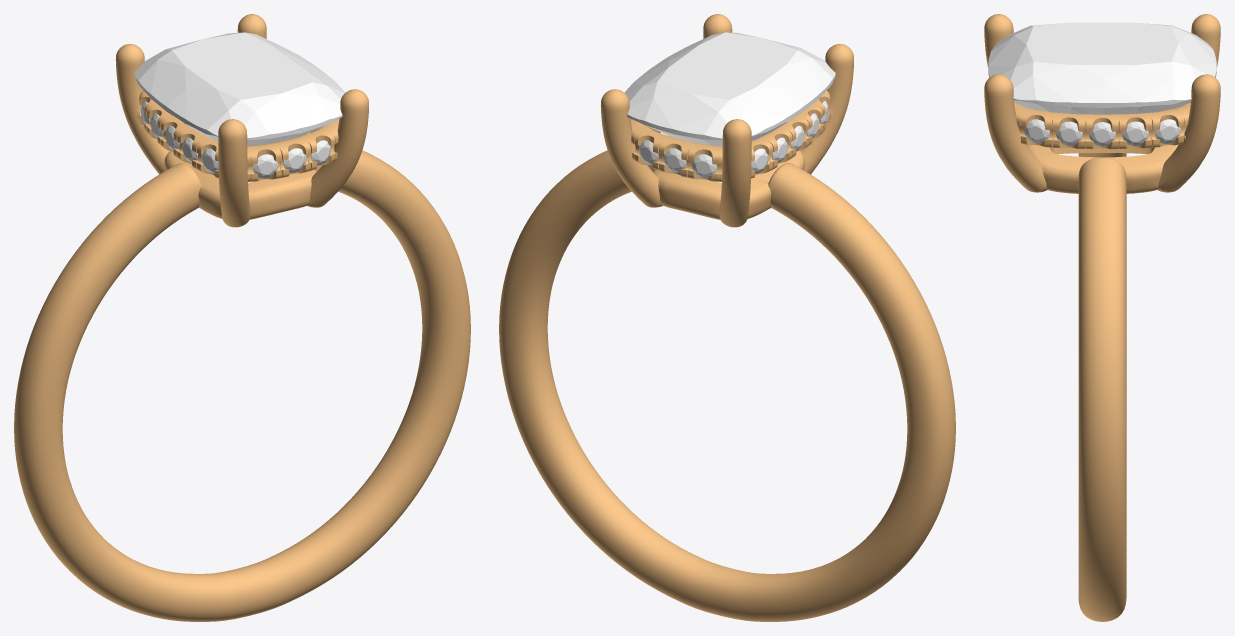
The picture shows the model from 3 angles, left to right: view 1: azimuth 30°, elevation 25°; view 2: azimuth 150°, elevation 25°; view 3: azimuth 270°, elevation 25°; orthographic projection.
Parts seen in each view (by area): view 1: /407678Masina Diamonds A.3dm; view 2: /407678Masina Diamonds A.3dm; view 3: /407678Masina Diamonds A.3dm.
Part boxes in pixels (box(x1,y1,x2,y2)): /407678Masina Diamonds A.3dm: box(14, 14, 470, 621); /407678Masina Diamonds A.3dm: box(499, 14, 955, 621); /407678Masina Diamonds A.3dm: box(984, 14, 1220, 621).
Size of the model in its own units: 2.5 by 2.91 by 1.13.
